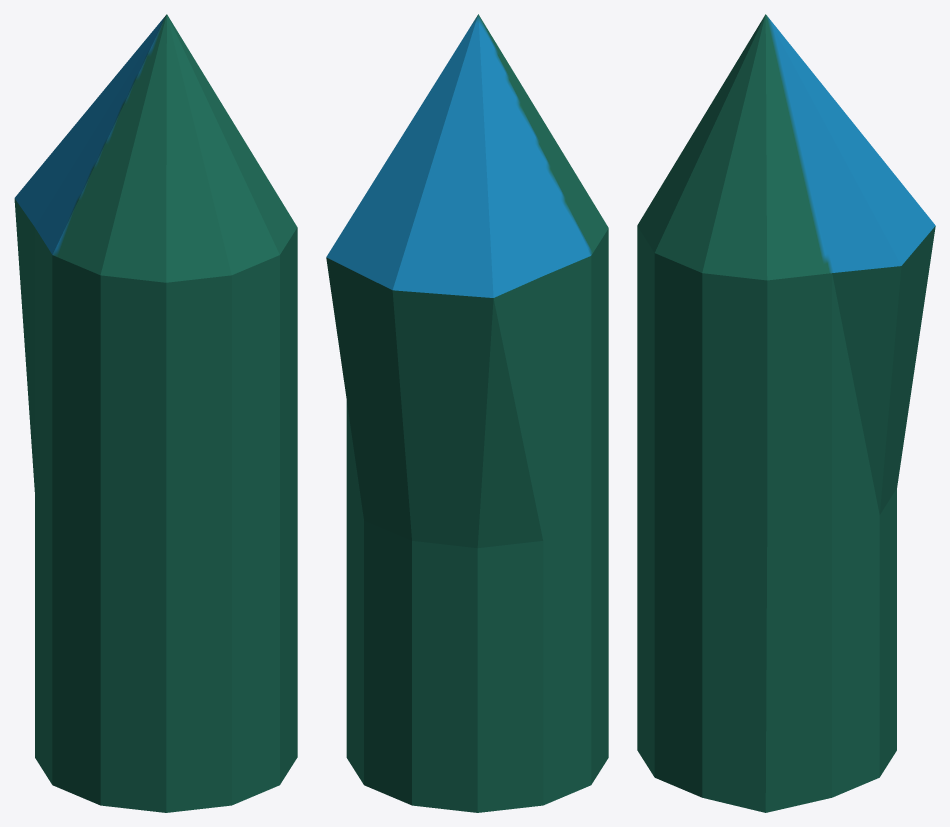
File: Munition arbalète.fbx
The picture shows the model from 3 angles, left to right: view 1: azimuth 30°, elevation 25°; view 2: azimuth 150°, elevation 25°; view 3: azimuth 270°, elevation 25°; orthographic projection.
Parts seen in each view (by area): view 1: Munition; view 2: Munition; view 3: Munition.
Boxes of the visible parts, <box> form: Munition: <box>14,14,297,812</box>; Munition: <box>326,14,608,812</box>; Munition: <box>637,14,935,812</box>.
Size of the model in its own units: 2.95 by 9.34 by 3.39.
